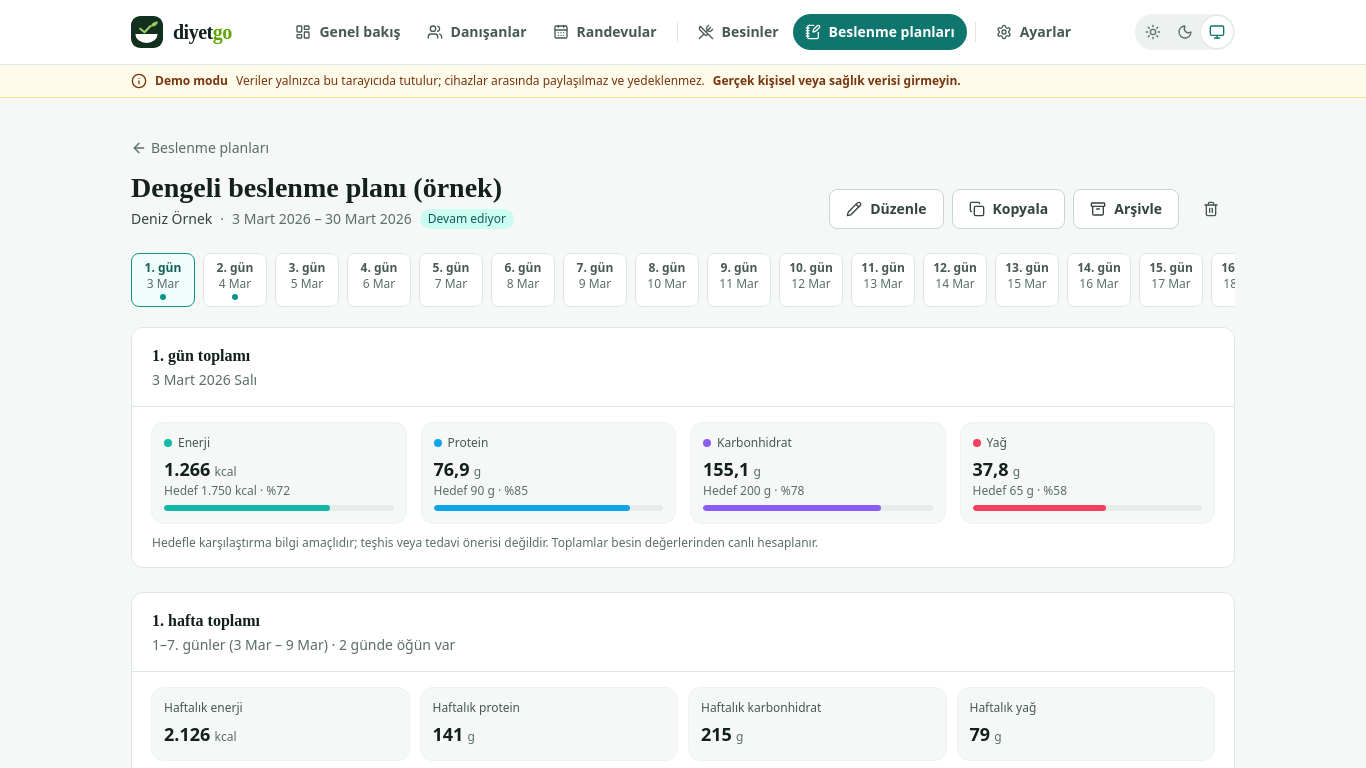
Plan işlemleri › mevcut öğünleri dışarıda bırakan kısaltmayı reddeder
Expected: the heading "Dengeli beslenme planı (örnek)" is shown, [131,170,514,205]
Click the button "Düzenle" at (886,209), box [829,189,944,229]
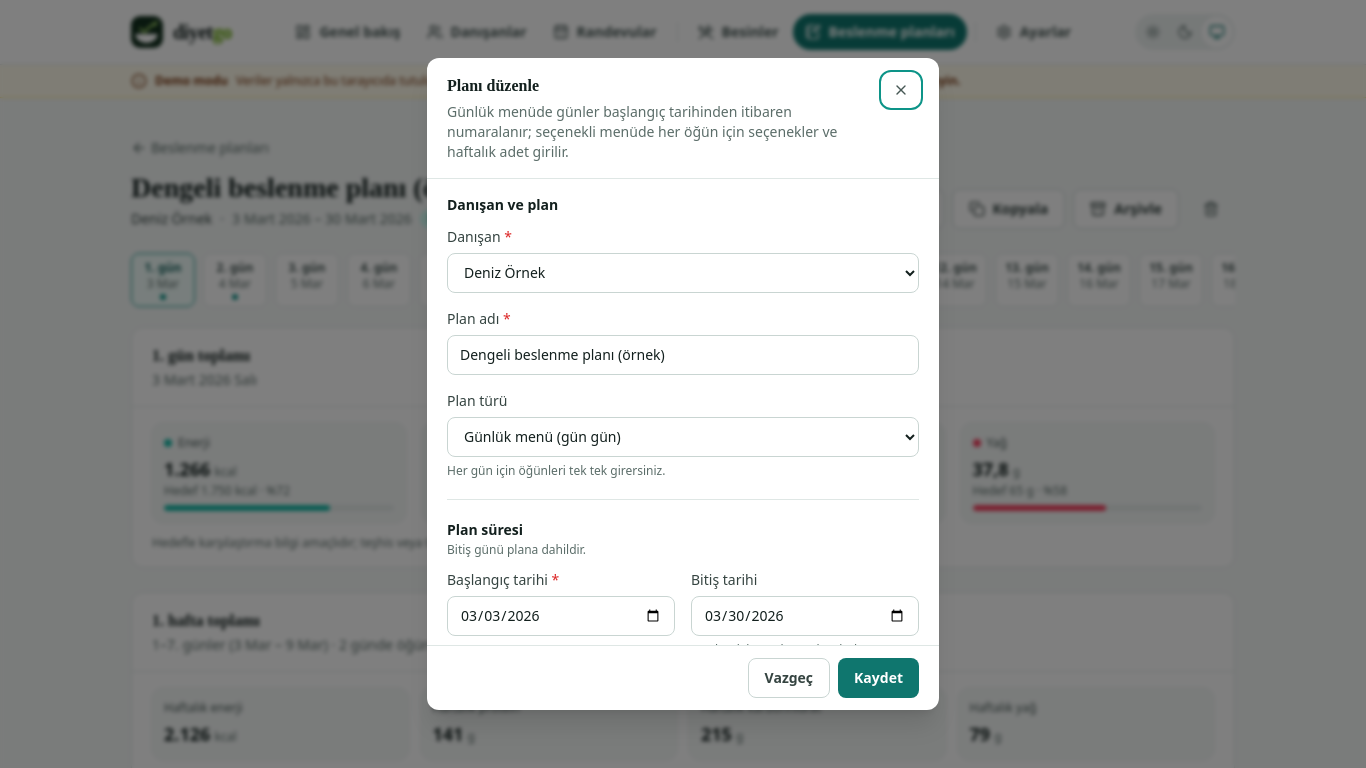
Type "2026-03-03" into the date field labelled "Bitiş tarihi" at (805,616), box [691,596,919,636]
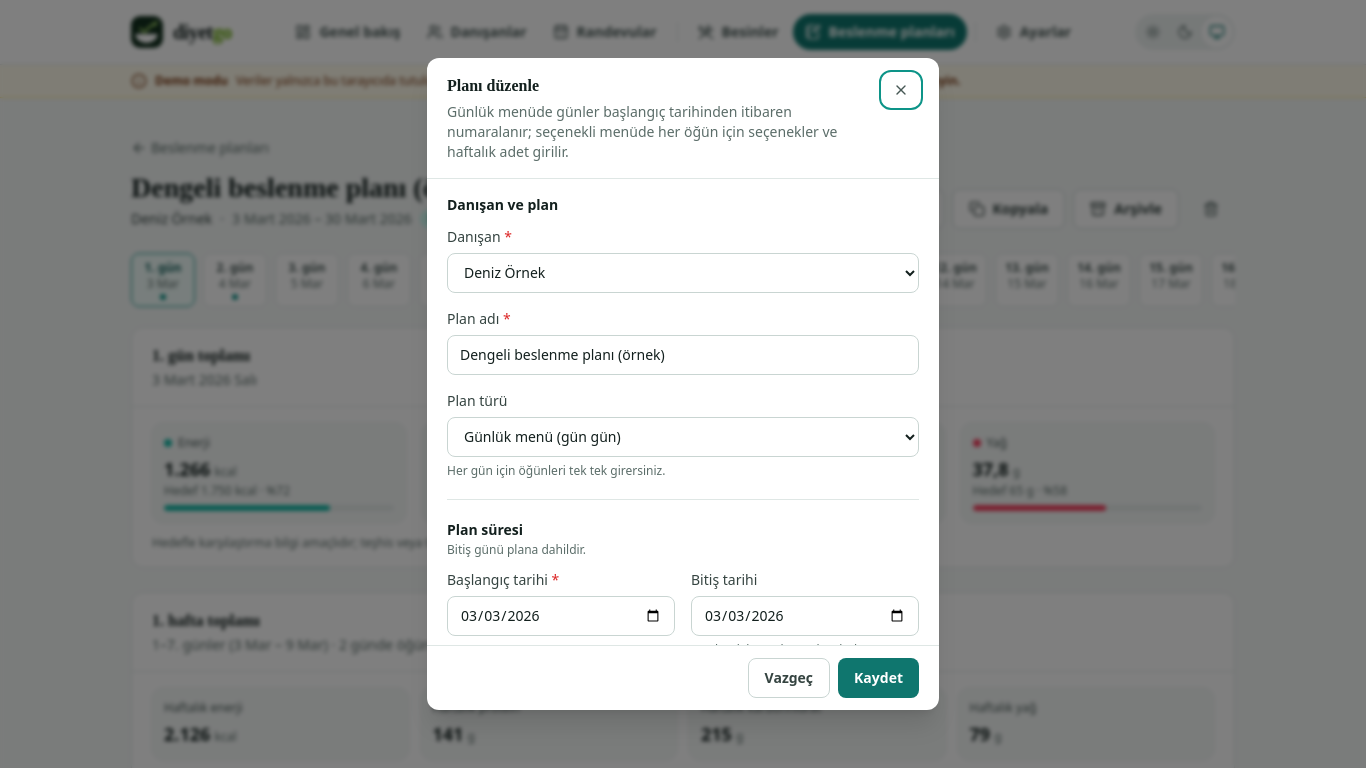
Click the button "Kaydet" at (879,678), box [838,658,919,698]
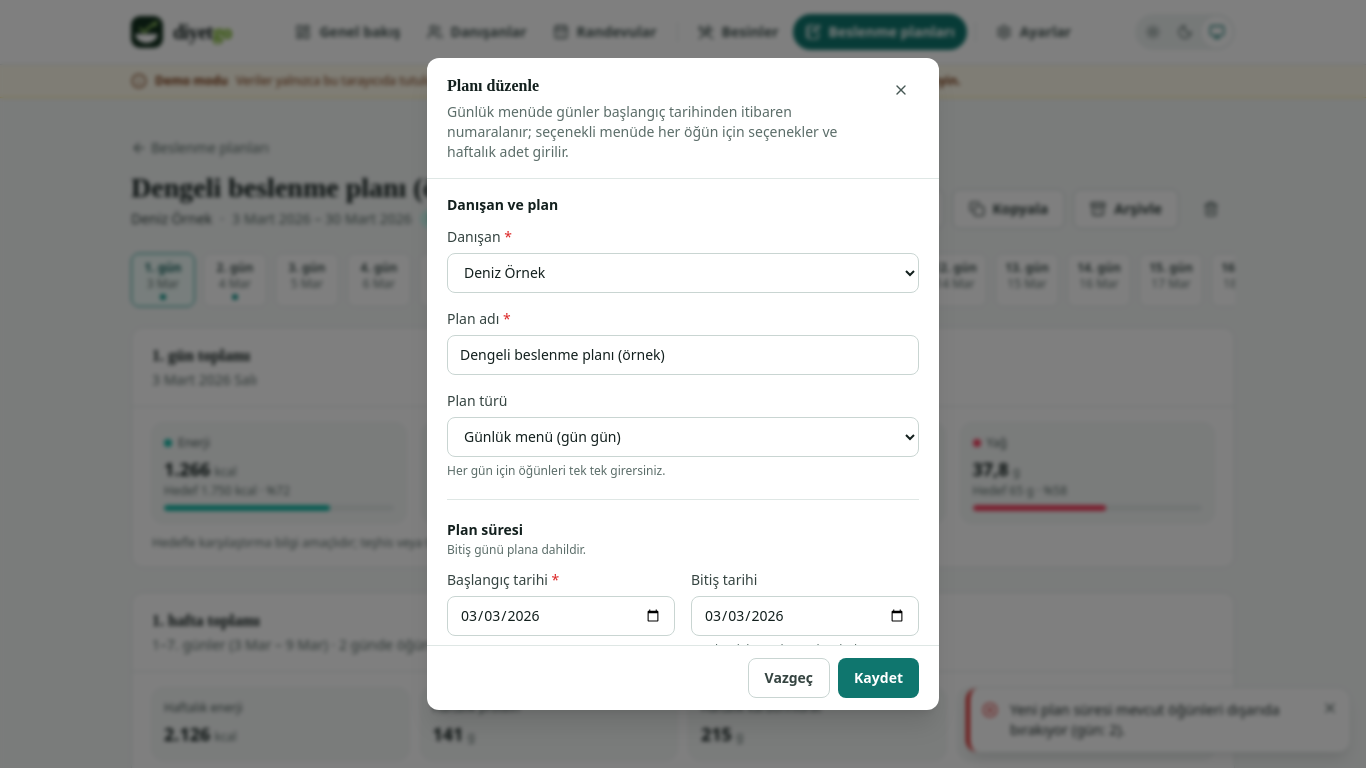
Now the text "Yeni plan süresi mevcut öğünleri dışarıda bırakıyor (gün: 2)." is shown, box [1010,700,1310,740]
